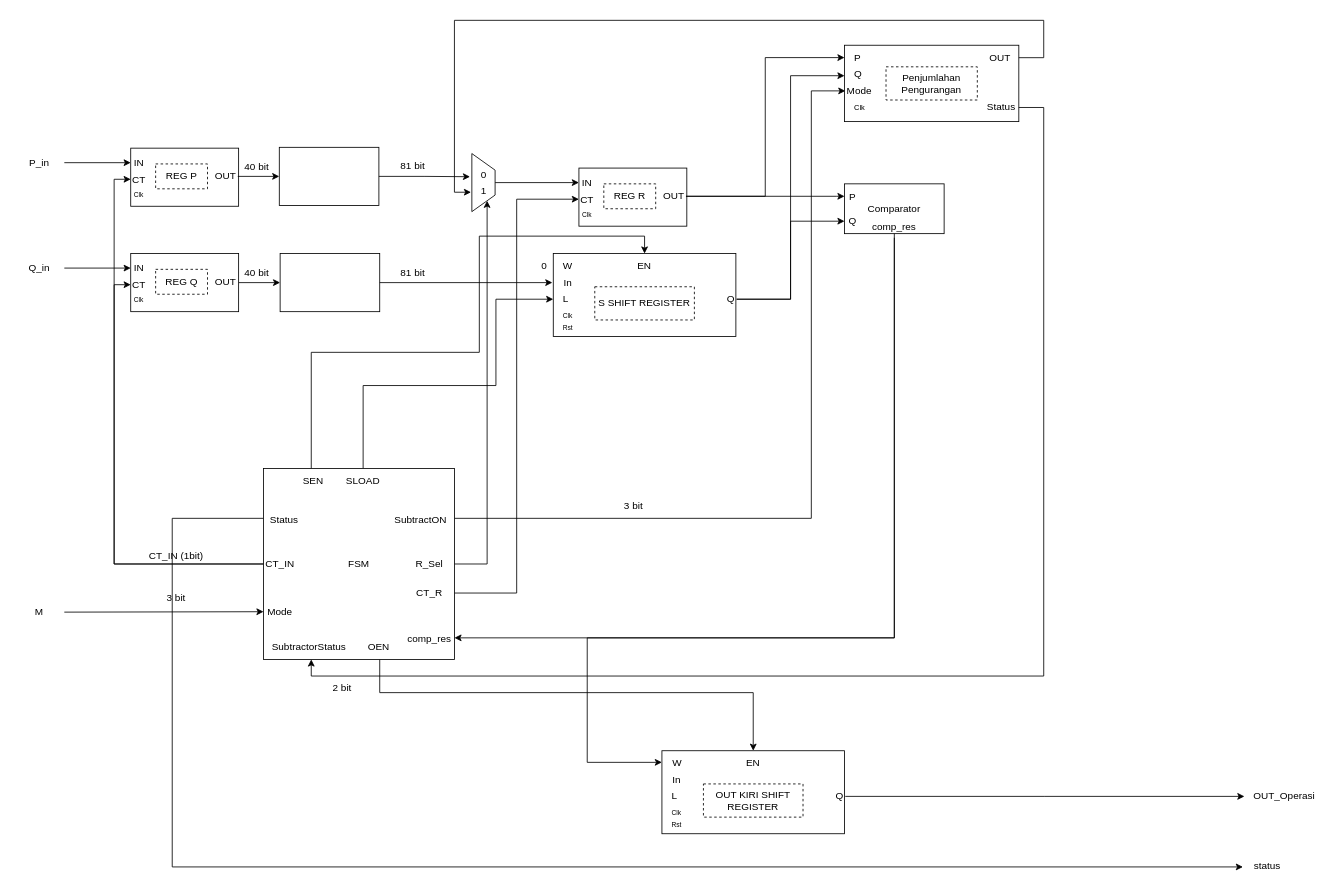
The diagram is 1340 pixels wide and 893 high, and some of its shapes have lost their labels. The shapes that lost their labels are listed below. From the top down, each one's centre as x and y in pixels, then its label:
[328,175]: TRANSFER BIT FUNCTION P TO R
[329,282]: TRANSFER BIT FUNCTION Q TO S
